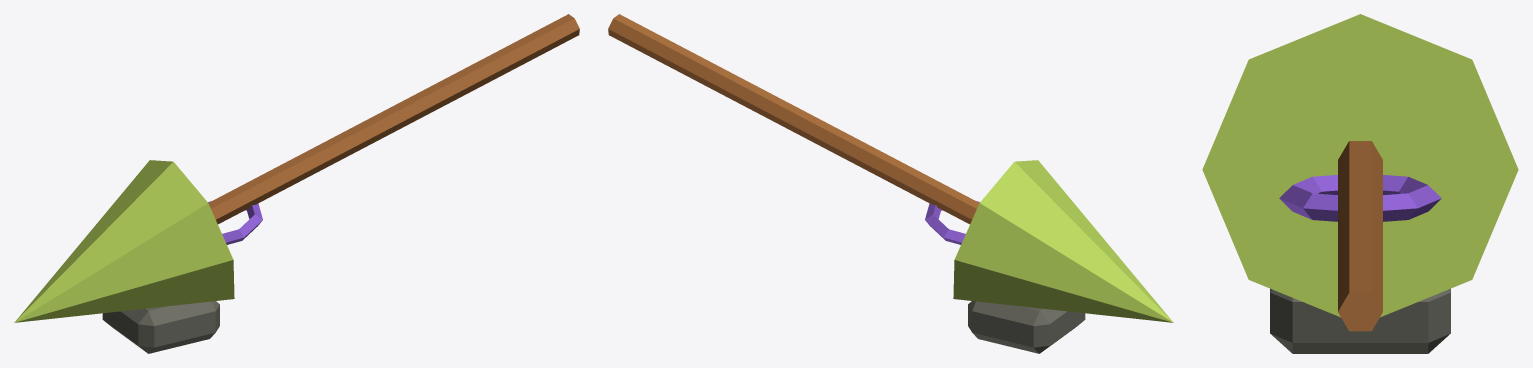
Rendered from WitchBroom.fbx.
3 views of the same model, side by side, from view 1: azimuth 30°, elevation 25°; view 2: azimuth 150°, elevation 25°; view 3: azimuth 270°, elevation 25° (orthographic). The views are drawn at different scales.
Visible parts, largest first — view 1: WitchBroom; view 2: WitchBroom; view 3: WitchBroom.
Boxes of the visible parts, box(x1,y1,x2,y2) form: WitchBroom: box(14, 14, 579, 353); WitchBroom: box(608, 14, 1173, 353); WitchBroom: box(1202, 14, 1518, 353).
Size of the model in its own units: 5.49 by 2.03 by 1.4.
1 material, 1 textured.
